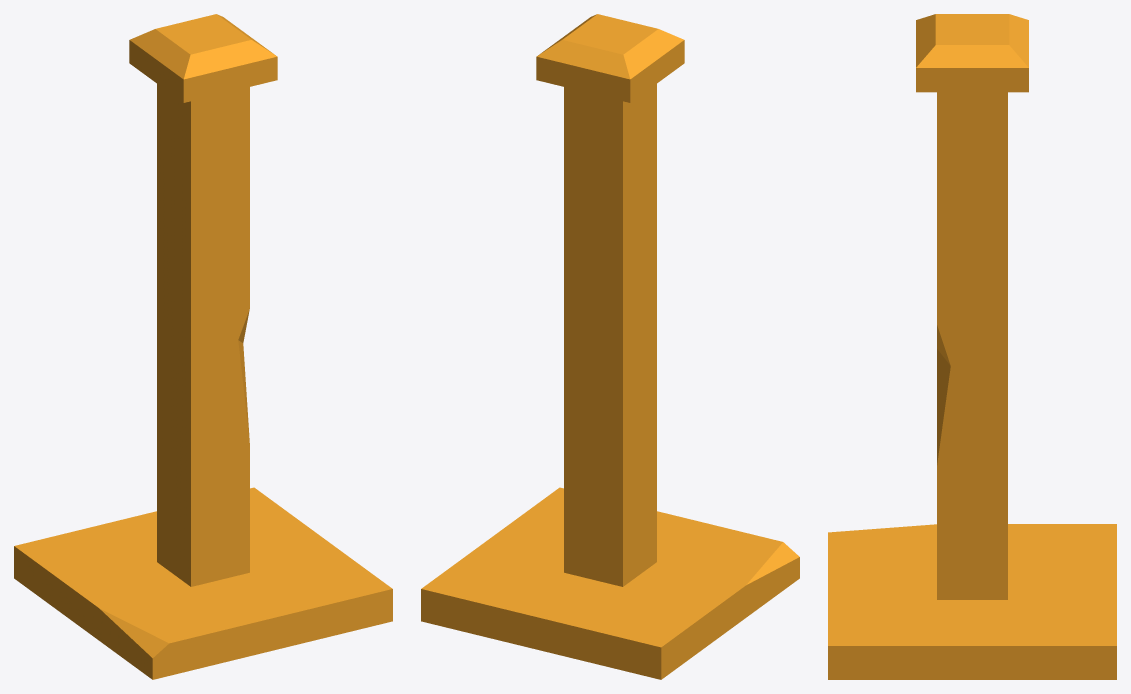
File: SM_Stand_Helmet_Fantasy.fbx
3 views of the same model, side by side, from view 1: azimuth 30°, elevation 25°; view 2: azimuth 150°, elevation 25°; view 3: azimuth 270°, elevation 25° (orthographic). The views are drawn at different scales.
Parts seen in each view (by area): view 1: stand-helmet-fantasy; view 2: stand-helmet-fantasy; view 3: stand-helmet-fantasy.
Part boxes in pixels (<box>): stand-helmet-fantasy: <box>14,14,392,679</box>; stand-helmet-fantasy: <box>421,14,799,679</box>; stand-helmet-fantasy: <box>828,14,1116,679</box>.
Size of the model in its own units: 0.2132 by 0.48 by 0.2132.
